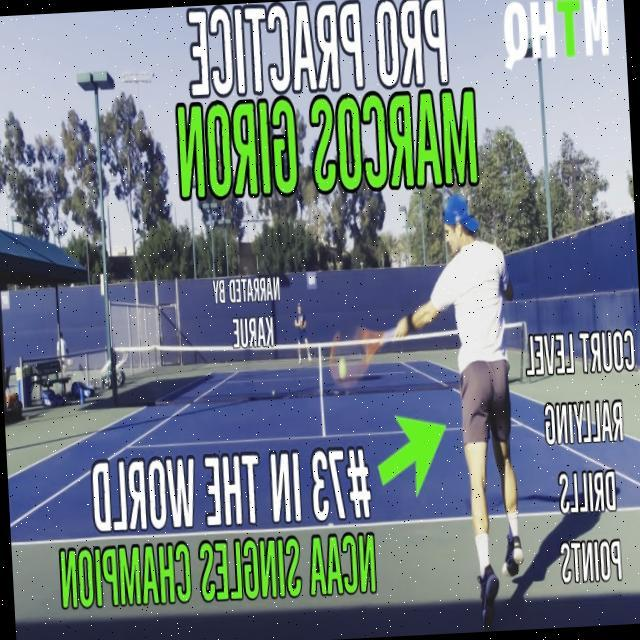net: (91, 302, 538, 424)
player: (314, 197, 544, 622)
